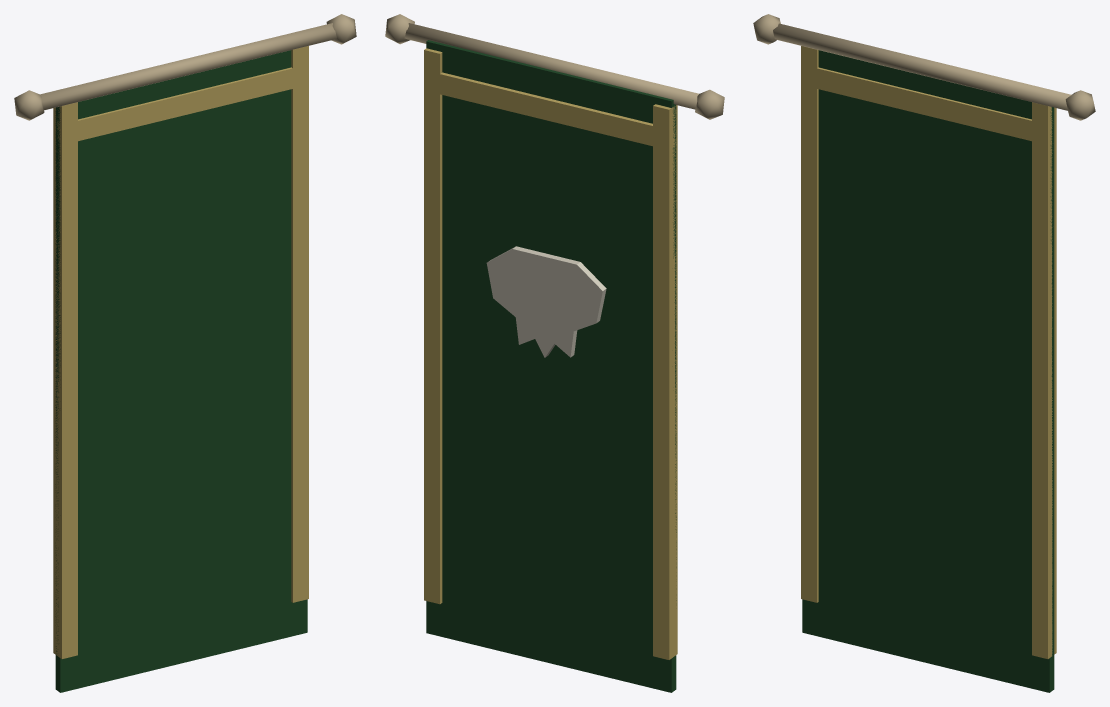
Rendered from skeleton_banner_v0.glb.
3 renders of one model, left to right at view 1: azimuth 30°, elevation 25°; view 2: azimuth 150°, elevation 25°; view 3: azimuth 330°, elevation 25°, orthographic.
Parts seen in each view (by area): view 1: skeleton_banner_v0; view 2: skeleton_banner_v0; view 3: skeleton_banner_v0.
Part boxes in pixels (x1,y1,x2,y2): skeleton_banner_v0: (14,14,356,692); skeleton_banner_v0: (385,14,724,692); skeleton_banner_v0: (753,14,1095,692).
Bounding box in the file's own units: 1.04 × 1.8 × 0.0933.
